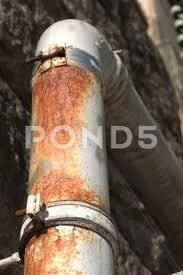Moderate: (29, 71, 107, 203), (17, 234, 111, 274)
